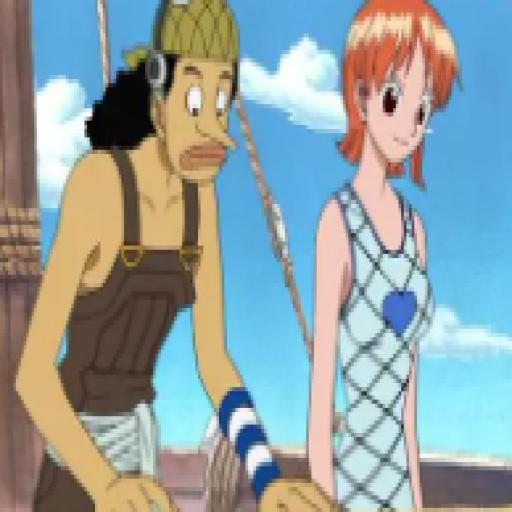Nami: (310, 0, 468, 512)
Usopp: (13, 3, 343, 512)
